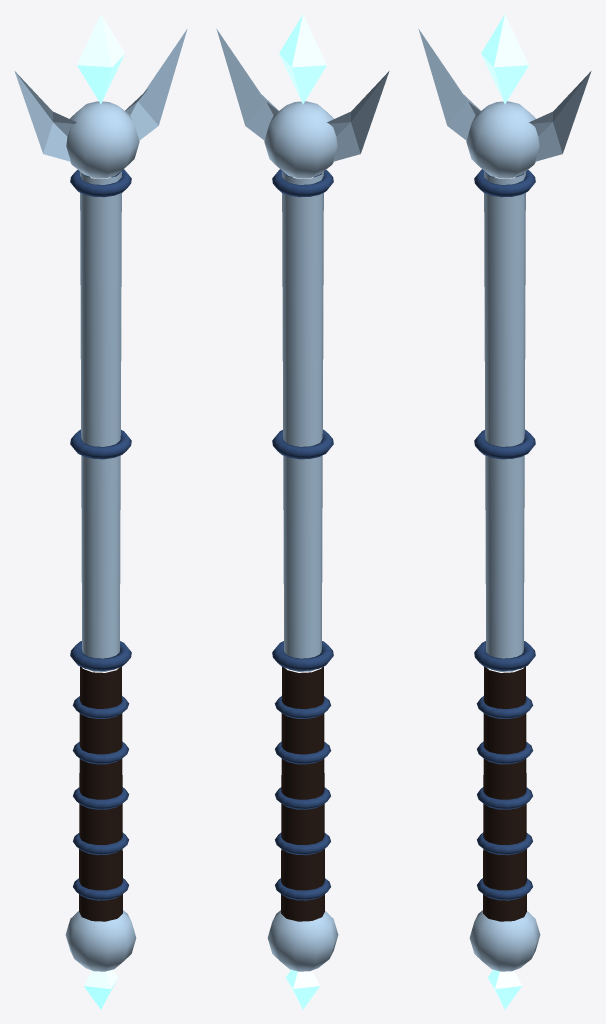
Rendered from scepter_2.glb.
The picture shows the model from 3 angles, left to right: view 1: azimuth 30°, elevation 25°; view 2: azimuth 150°, elevation 25°; view 3: azimuth 330°, elevation 25°; orthographic projection.
Visible parts, largest first — view 1: scepter_2; view 2: scepter_2; view 3: scepter_2.
Part boxes in pixels (box(x1,y1,x2,y2)): scepter_2: box(14, 14, 187, 1009); scepter_2: box(216, 14, 389, 1009); scepter_2: box(418, 14, 591, 1009).
Size of the model in its own units: 0.18 by 0.988 by 0.0666.
